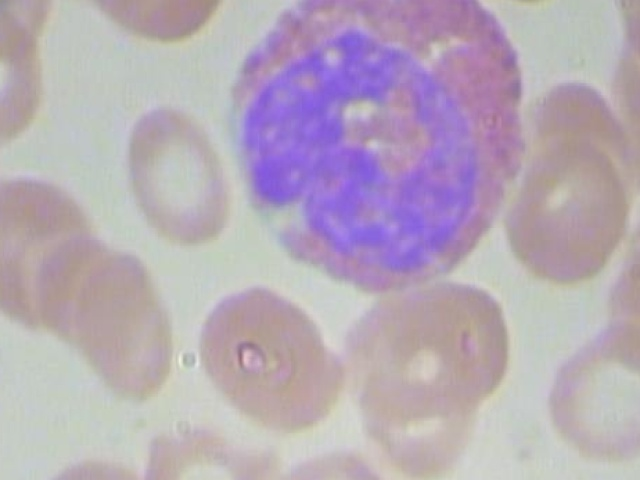RBC: (184, 278, 355, 440), (66, 245, 190, 416), (500, 130, 635, 287), (115, 101, 242, 262), (530, 311, 640, 473), (131, 412, 282, 480), (65, 0, 244, 50), (260, 445, 411, 480), (28, 451, 157, 480)
WBC: (208, 0, 544, 304)
